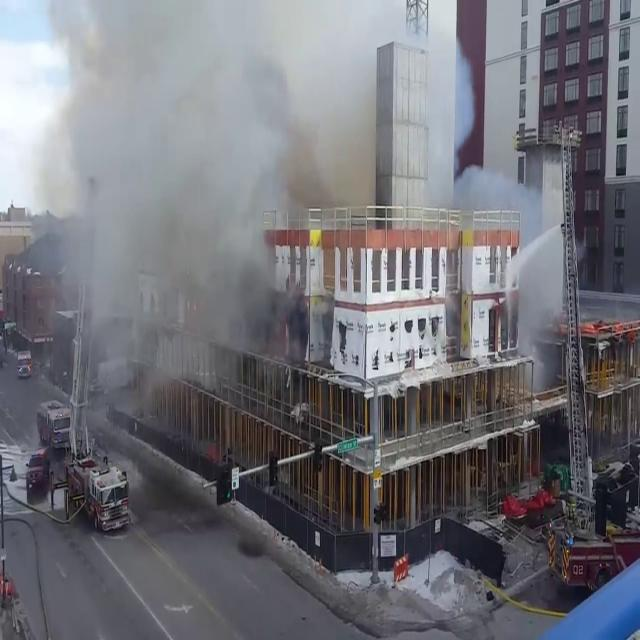smoke: (33, 1, 323, 395), (506, 197, 566, 394)
